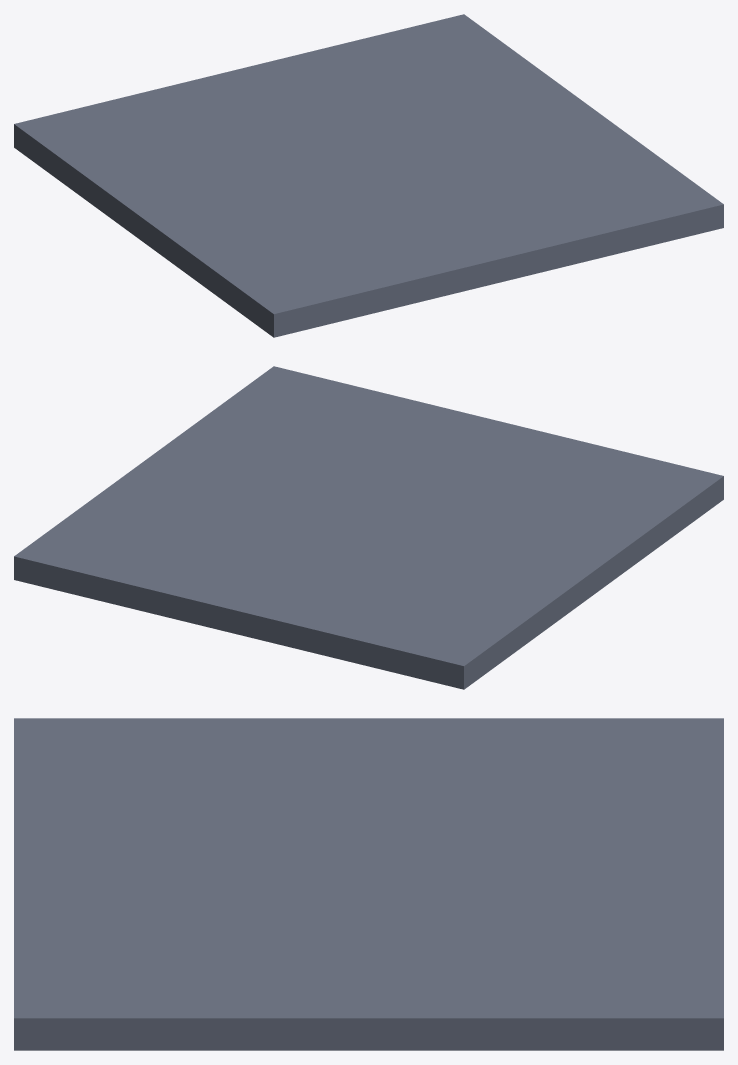
The model's file is env_block_sidewalk_no_curb_3m.glb.
The picture shows the model from 3 angles, top to bottom: view 1: azimuth 30°, elevation 25°; view 2: azimuth 150°, elevation 25°; view 3: azimuth 270°, elevation 25°; orthographic projection. The views are drawn at different scales.
Parts seen in each view (by area): view 1: geometry_0; view 2: geometry_0; view 3: geometry_0.
Boxes of the visible parts, bbox=[...] form: geometry_0: bbox=[14, 14, 723, 337]; geometry_0: bbox=[14, 366, 723, 689]; geometry_0: bbox=[14, 718, 723, 1050].
Bounding box in the file's own units: 3 × 0.15 × 3.
